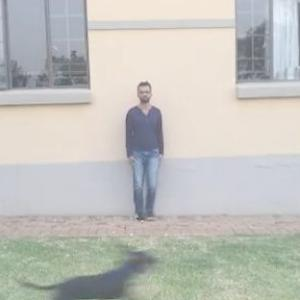follow: (123, 79, 166, 223)
